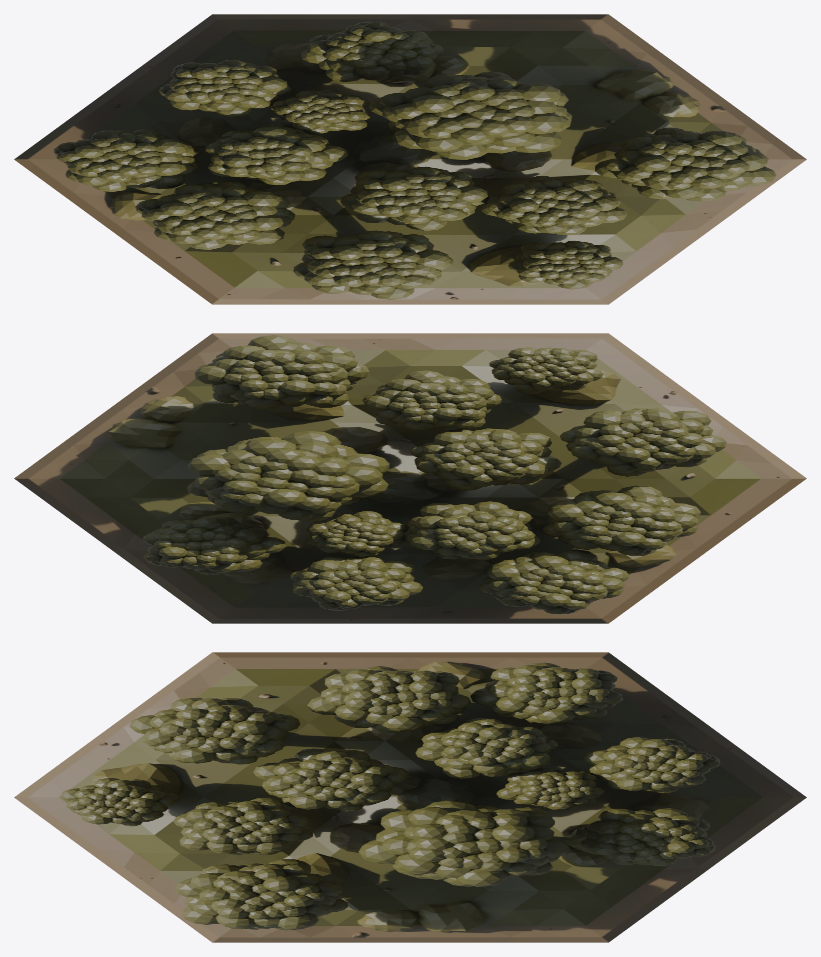
File: tropicalRainforest.glb
The picture shows the model from 3 angles, top to bottom: view 1: azimuth 30°, elevation 25°; view 2: azimuth 150°, elevation 25°; view 3: azimuth 270°, elevation 25°; orthographic projection.
Visible parts, largest first — view 1: Deciduousforest_flat; view 2: Deciduousforest_flat; view 3: Deciduousforest_flat.
Boxes of the visible parts, left/top/right/bottom form: Deciduousforest_flat: left=14, top=14, right=806, bottom=304; Deciduousforest_flat: left=14, top=333, right=806, bottom=623; Deciduousforest_flat: left=14, top=652, right=806, bottom=942.
Bounding box in the file's own units: 1.73 × 0 × 2.
Materials: 1 (1 with a texture image).
